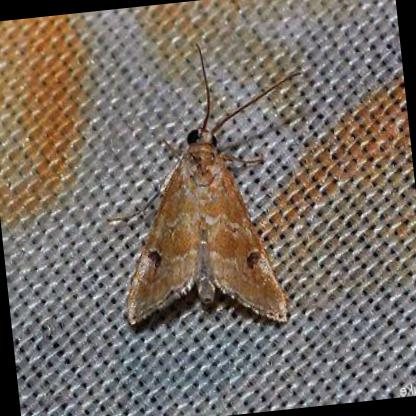Hellula undalis: (88, 27, 309, 339)
